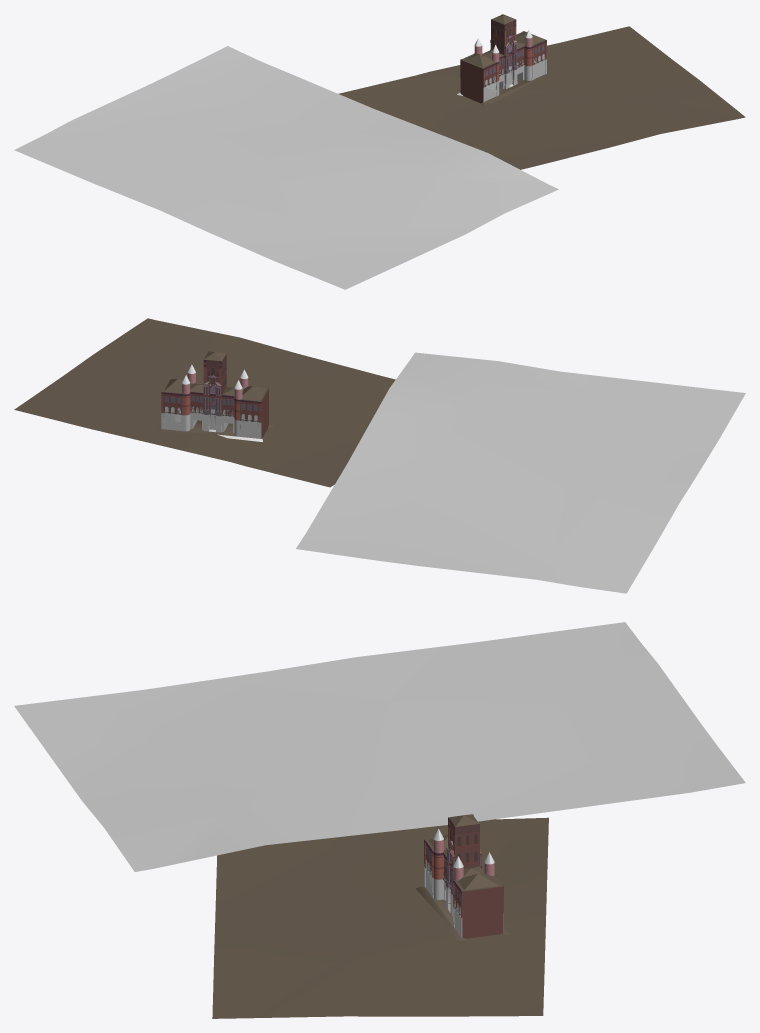
Rendered from corpo+de+bombeiros.fbx.
The picture shows the model from 3 angles, top to bottom: view 1: azimuth 30°, elevation 25°; view 2: azimuth 150°, elevation 25°; view 3: azimuth 270°, elevation 25°; orthographic projection. The views are drawn at different scales.
Visible parts, largest first — view 1: Google_Earth_Terrain1, Google_Earth_Terrain, Componente_3_1, Componente_4_1, Componente_5_1, Model; view 2: Google_Earth_Terrain1, Google_Earth_Terrain, Componente_5_1, Componente_2_1, Model; view 3: Google_Earth_Terrain1, Google_Earth_Terrain, Componente_4_1, Componente_2_1, Componente_3_1, Model.
Part boxes in pixels (<box>): Google_Earth_Terrain1: <box>14,46,558,289</box>; Google_Earth_Terrain: <box>338,26,745,169</box>; Componente_3_1: <box>472,15,511,102</box>; Componente_4_1: <box>504,15,546,86</box>; Componente_5_1: <box>460,15,502,97</box>; Model: <box>457,73,550,107</box>; Google_Earth_Terrain1: <box>296,352,745,593</box>; Google_Earth_Terrain: <box>14,318,395,487</box>; Componente_5_1: <box>212,352,264,438</box>; Componente_2_1: <box>161,352,214,431</box>; Model: <box>158,420,273,441</box>; Google_Earth_Terrain1: <box>14,622,745,871</box>; Google_Earth_Terrain: <box>212,817,548,1018</box>; Componente_4_1: <box>449,815,482,938</box>; Componente_2_1: <box>464,815,503,935</box>; Componente_3_1: <box>424,815,463,911</box>; Model: <box>415,886,509,940</box>.
Bounding box in the file's own units: 324 × 40.95 × 252.
